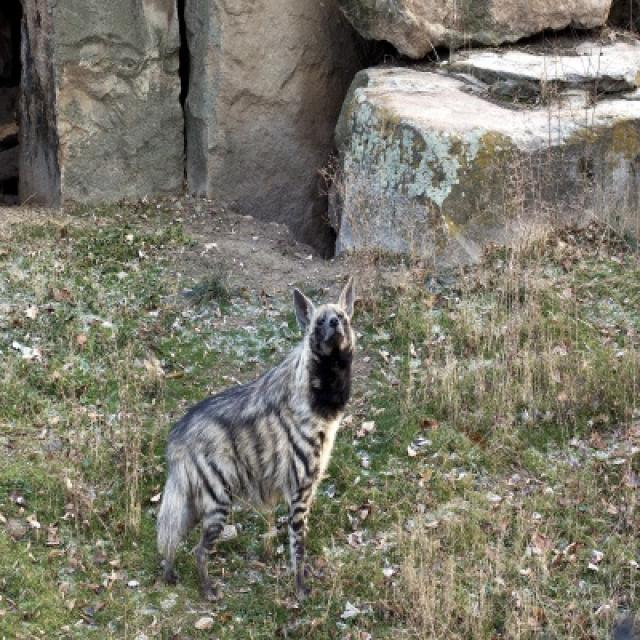hyena: (155, 259, 358, 608)
